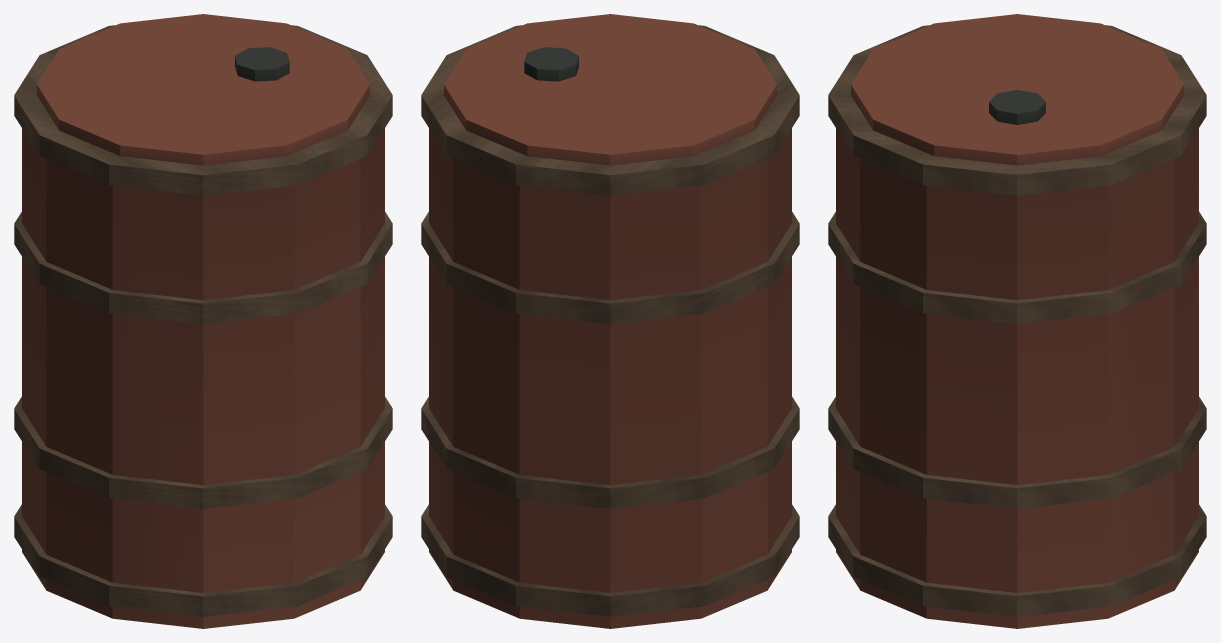
Rendered from barrel.glb.
3 views of the same model, side by side, from view 1: azimuth 30°, elevation 25°; view 2: azimuth 150°, elevation 25°; view 3: azimuth 270°, elevation 25° (orthographic).
Parts seen in each view (by area): view 1: Oxide red drums, Dark endgrain, Oxidized dark steel; view 2: Oxide red drums, Dark endgrain, Oxidized dark steel; view 3: Oxide red drums, Dark endgrain, Oxidized dark steel.
Part boxes in pixels (bbox=[...]): Oxide red drums: bbox=[22, 14, 384, 628]; Dark endgrain: bbox=[14, 25, 392, 616]; Oxidized dark steel: bbox=[235, 47, 289, 81]; Oxide red drums: bbox=[429, 14, 791, 628]; Dark endgrain: bbox=[421, 25, 799, 616]; Oxidized dark steel: bbox=[524, 47, 578, 81]; Oxide red drums: bbox=[836, 14, 1198, 628]; Dark endgrain: bbox=[828, 25, 1206, 616]; Oxidized dark steel: bbox=[989, 90, 1045, 124].
Bounding box in the file's own units: 0.334 × 0.4665 × 0.334.
3 materials, 1 textured.
